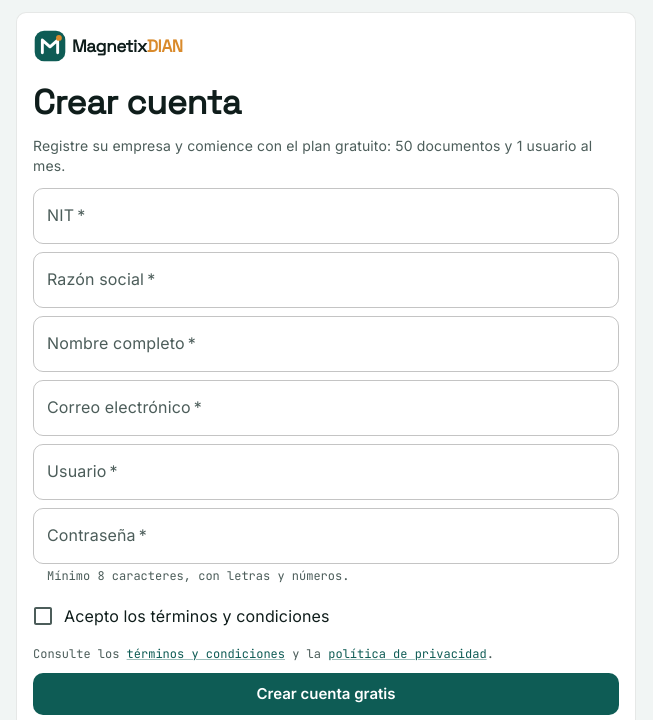
RegistroPage › muestra el error devuelto por el servidor
Type "900123456" into the field labelled "NIT *" at (326, 216), box [33,188,619,244]
Type "Empresa Prueba SAS" into the field labelled "Razón social *" at (326, 280), box [33,252,619,308]
Type "Cliente Uno" into the field labelled "Nombre completo *" at (326, 344), box [33,316,619,372]
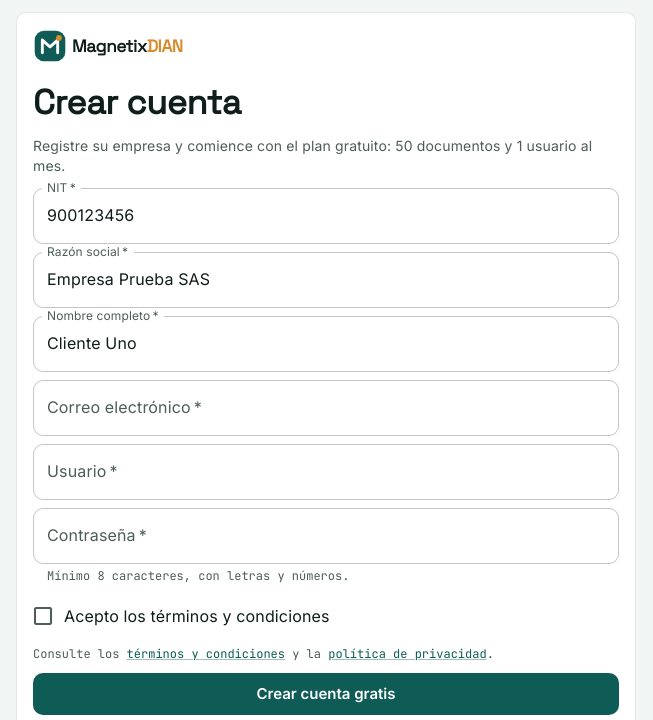
Type "cliente1@ejemplo.com" into the field labelled "Correo electrónico *" at (326, 408), box [33,380,619,436]
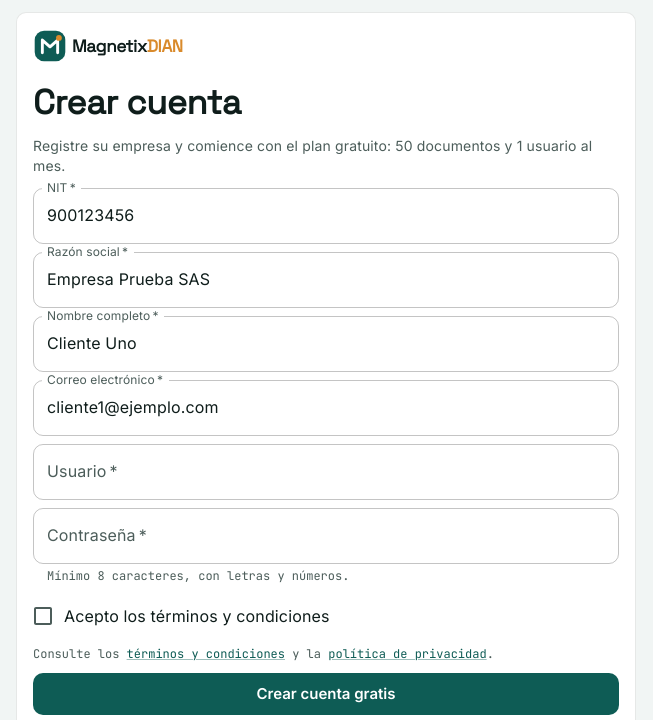
Type "cliente1" into the field labelled "Usuario *" at (326, 472), box [33,444,619,500]
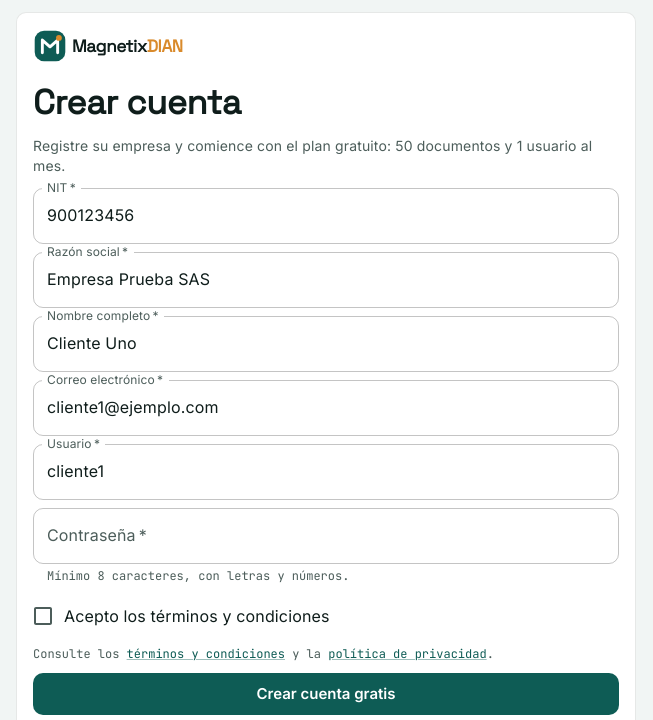
Type "clave1234" into the password field labelled "Contraseña *" at (326, 536), box [33,508,619,564]
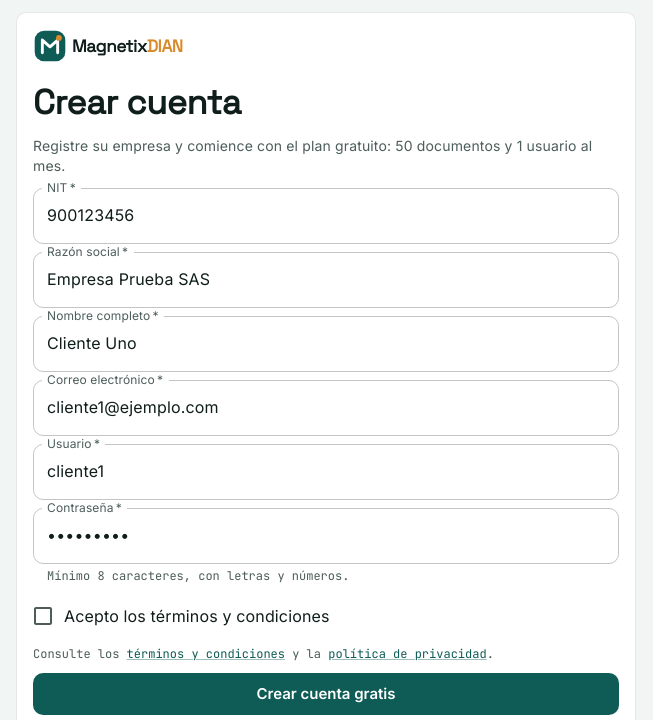
Click the checkbox labelled "Acepto los términos y condiciones" at (180, 616), box [31,604,330,628]
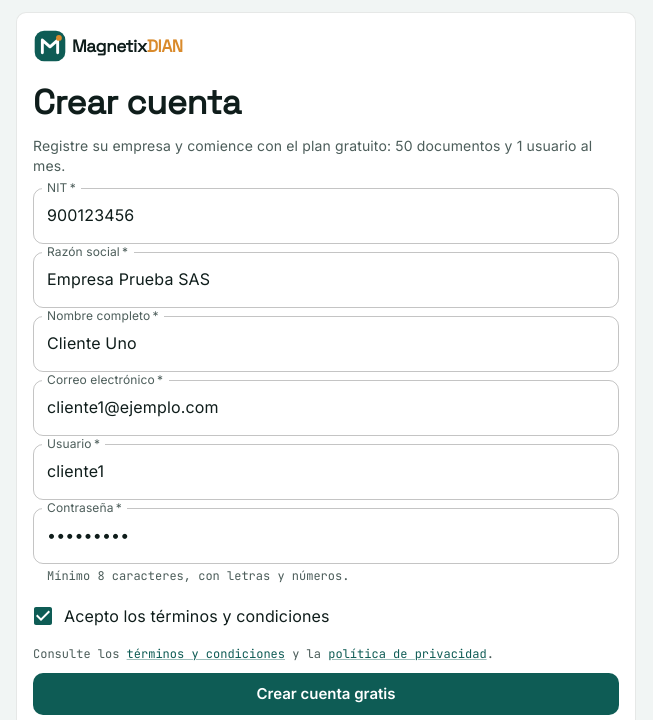
Click the button "Crear cuenta gratis" at (326, 694), box [33,673,619,715]
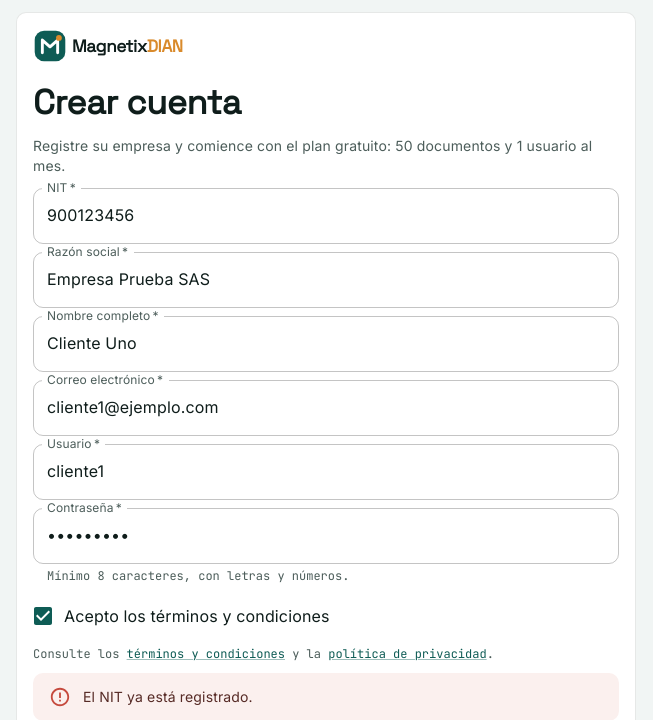
Expected: the message reads "El NIT ya está registrado.", [83,688,253,705]
